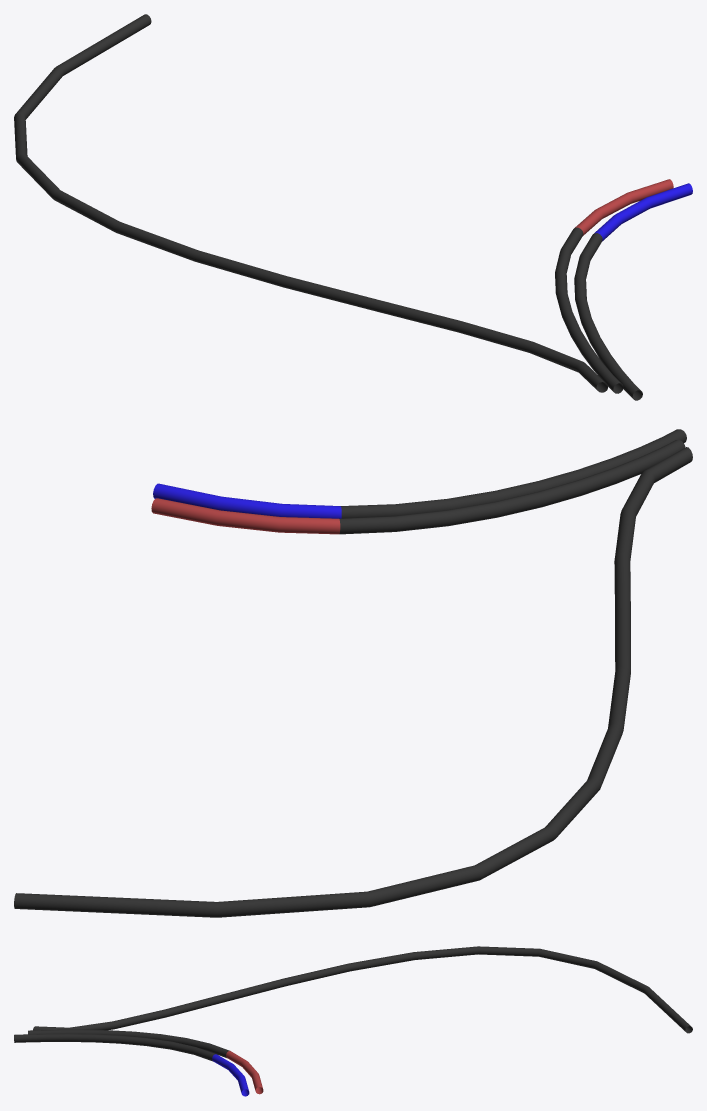
File: connections.dae
The picture shows the model from 3 angles, top to bottom: view 1: azimuth 30°, elevation 25°; view 2: azimuth 150°, elevation 25°; view 3: azimuth 270°, elevation 25°; orthographic projection. The views are drawn at different scales.
Visible parts, largest first — view 1: BezierCurve.002, BezierCurve.003, BezierCurve.001; view 2: BezierCurve.002, BezierCurve.001, BezierCurve.003; view 3: BezierCurve.002, BezierCurve.003, BezierCurve.001.
Part boxes in pixels (x1=…): BezierCurve.002: x1=14, y1=14, x2=607, y2=392; BezierCurve.003: x1=574, y1=183, x2=692, y2=400; BezierCurve.001: x1=555, y1=179, x2=673, y2=393; BezierCurve.002: x1=14, y1=447, x2=692, y2=917; BezierCurve.001: x1=151, y1=440, x2=685, y2=534; BezierCurve.003: x1=153, y1=429, x2=686, y2=518; BezierCurve.002: x1=33, y1=946, x2=692, y2=1033; BezierCurve.003: x1=14, y1=1034, x2=249, y2=1096; BezierCurve.001: x1=28, y1=1029, x2=263, y2=1094.
Size of the model in its own units: 91.07 by 167 by 7.37.
